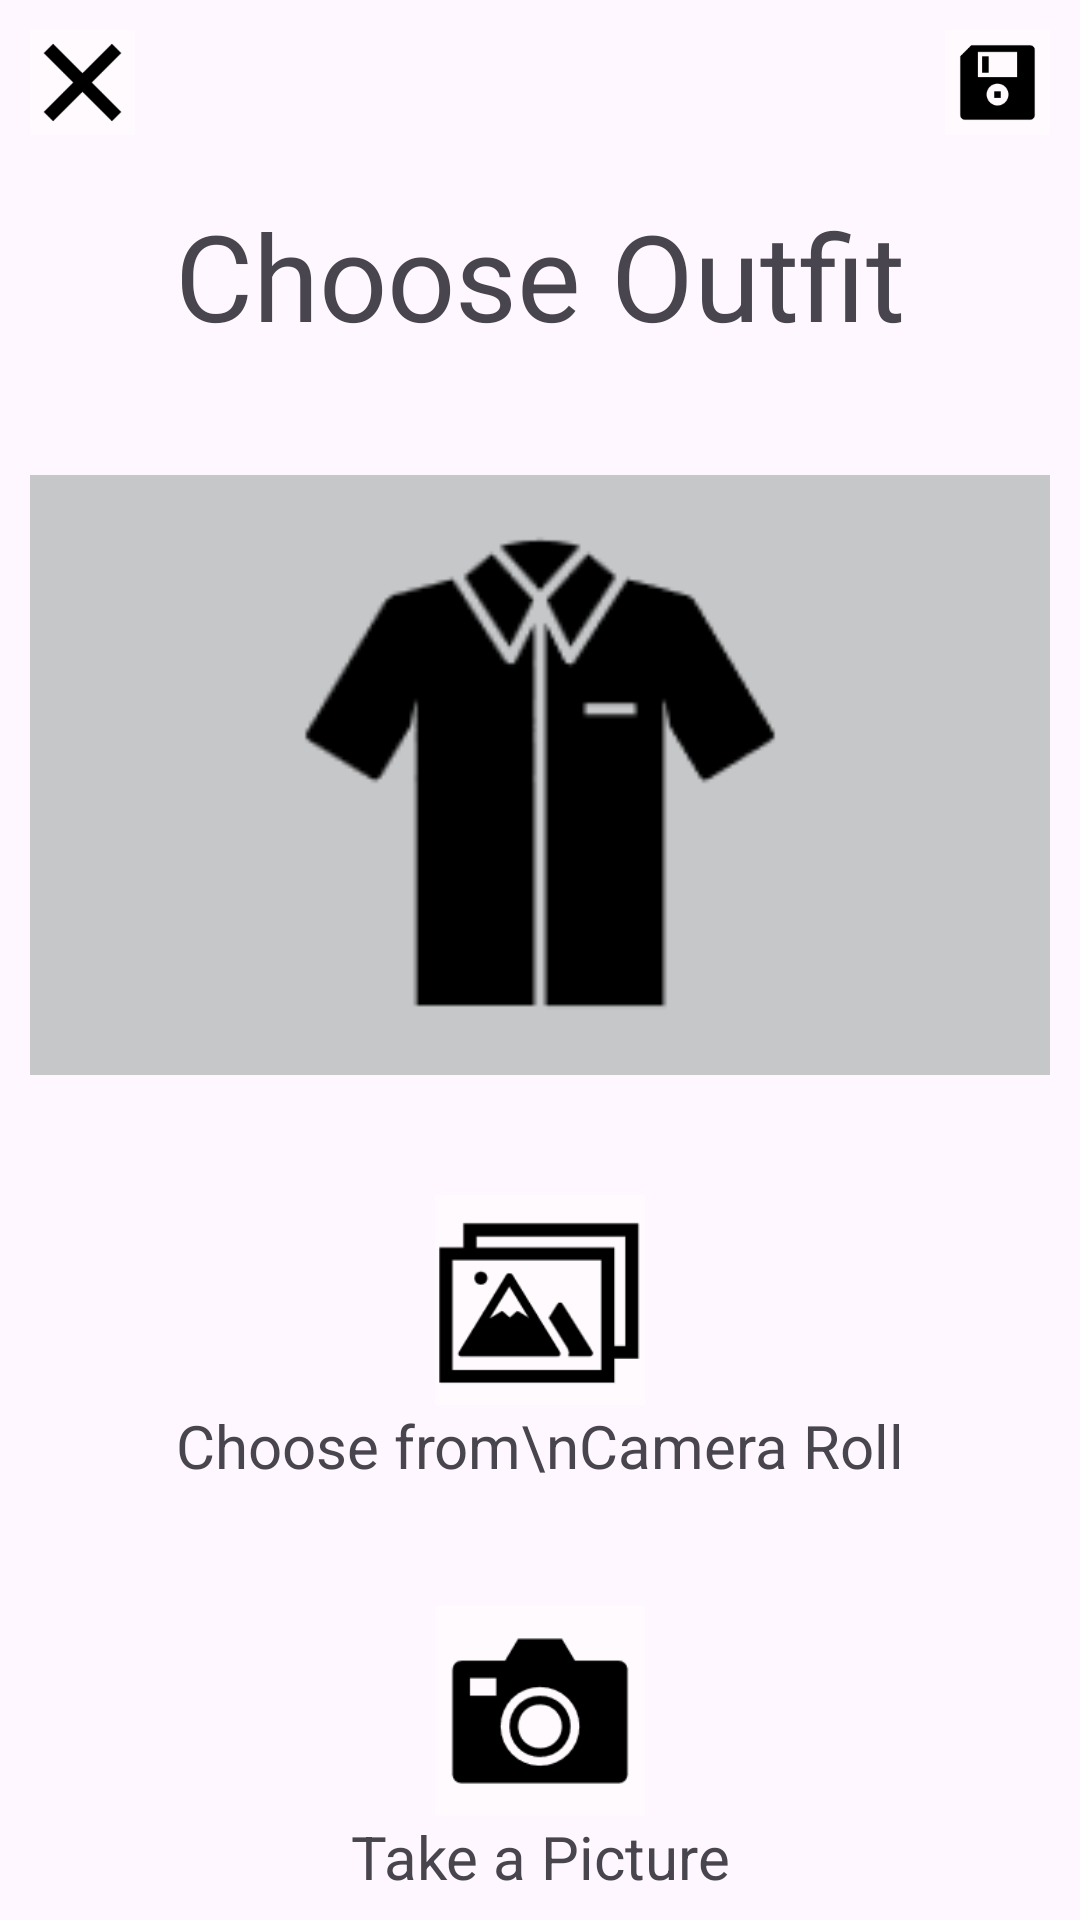

Named icons in this screenshot (1080*1920) and their bounding boxes, {"x1": x1, "y1": y1, "x2": x2, "y2": y2}:
album: {"x1": 439, "y1": 1222, "x2": 640, "y2": 1383}
exit: {"x1": 43, "y1": 44, "x2": 122, "y2": 121}
save: {"x1": 960, "y1": 45, "x2": 1035, "y2": 120}
